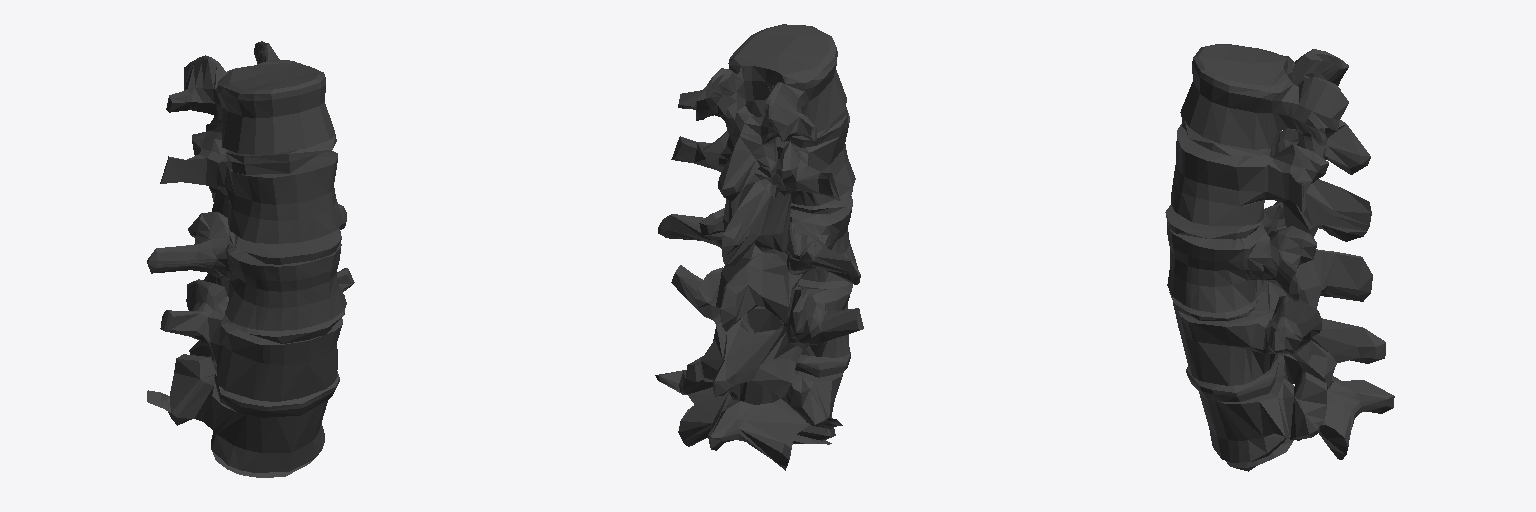
The model's file is Spine.obj.
3 views of the same model, side by side, from view 1: azimuth 30°, elevation 25°; view 2: azimuth 150°, elevation 25°; view 3: azimuth 270°, elevation 25° (orthographic).
Size of the model in its own units: 9.34 by 17.76 by 9.22.